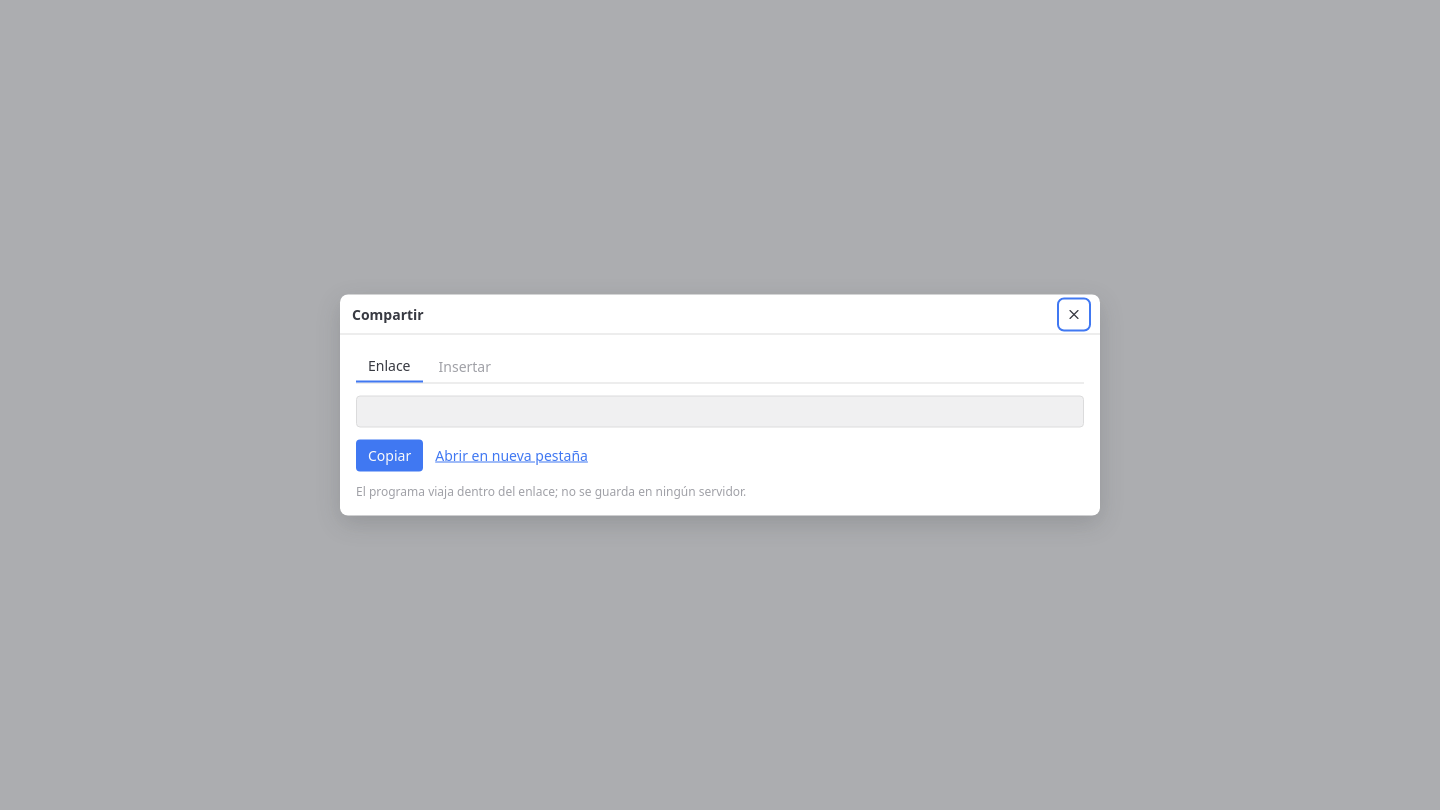
Scenario: Share: the Insertar tab › never previews an empty embed URL while the link is pending or failed
Click the tab "Insertar".
click(465, 366)  # box [426,350,503,382]
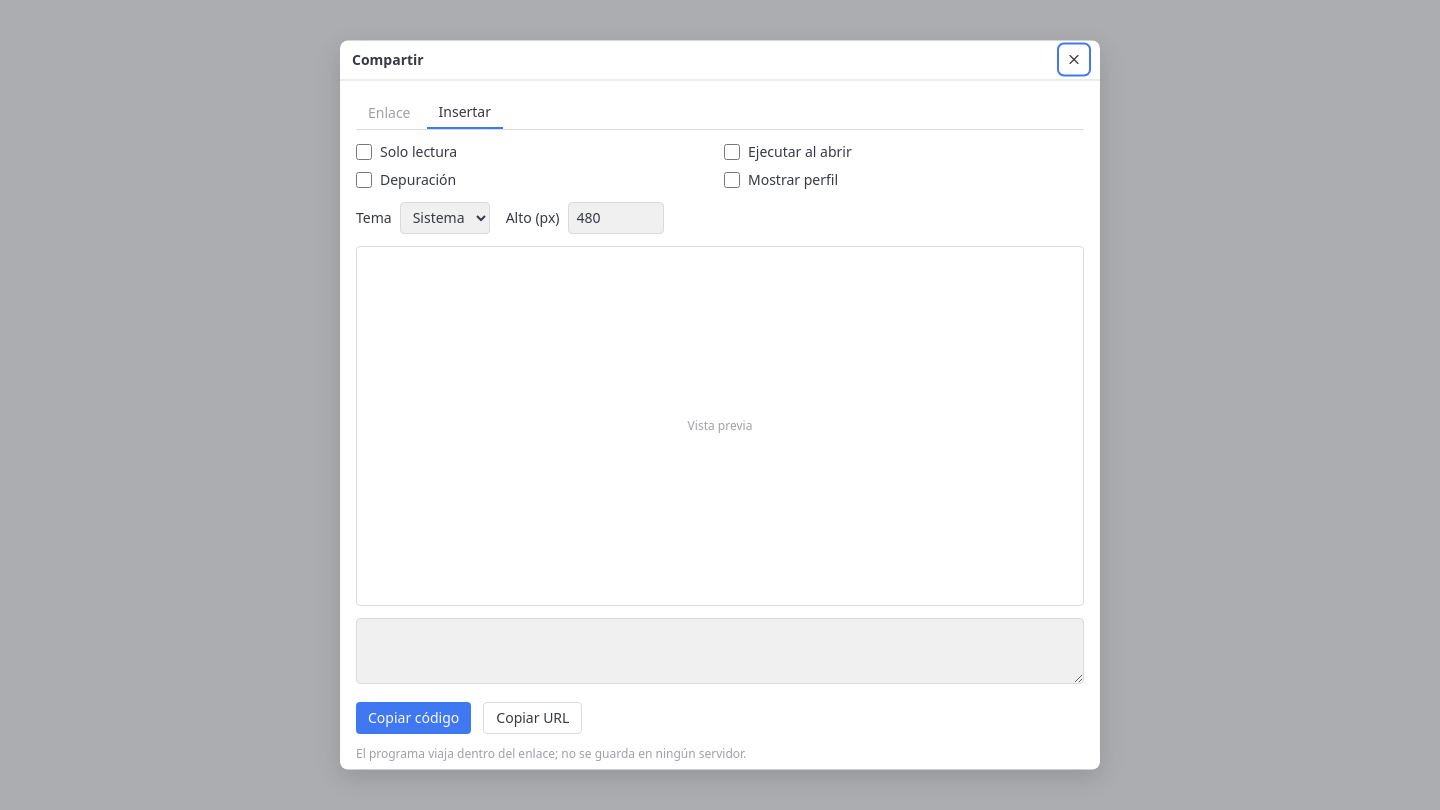
Check: the picture "Vista previa" is shown, box [356,245,1084,605]
